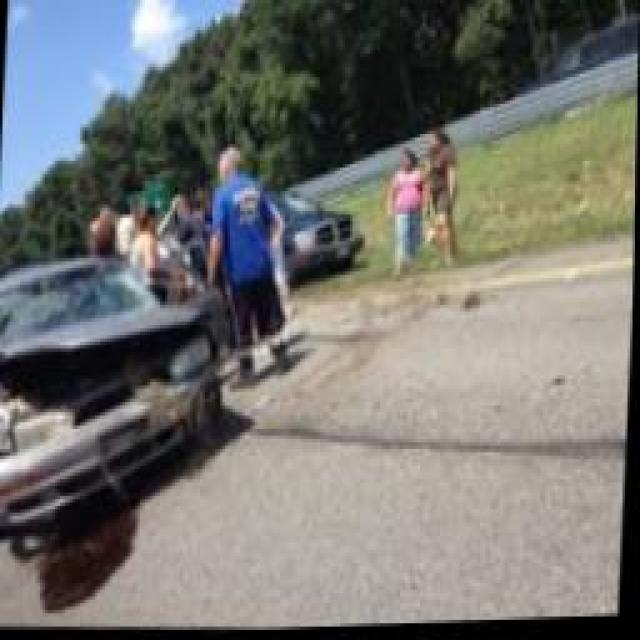Bonnet: (0, 308, 197, 426)
Windshield: (0, 257, 160, 347)
